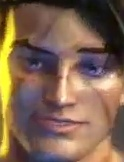kevin: (6, 6, 122, 161)
